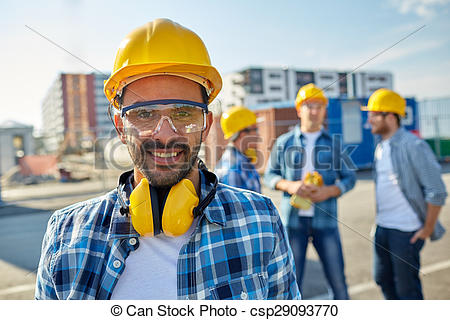Helmet: (100, 16, 223, 105), (359, 85, 409, 119), (218, 105, 264, 139), (293, 81, 330, 115)
